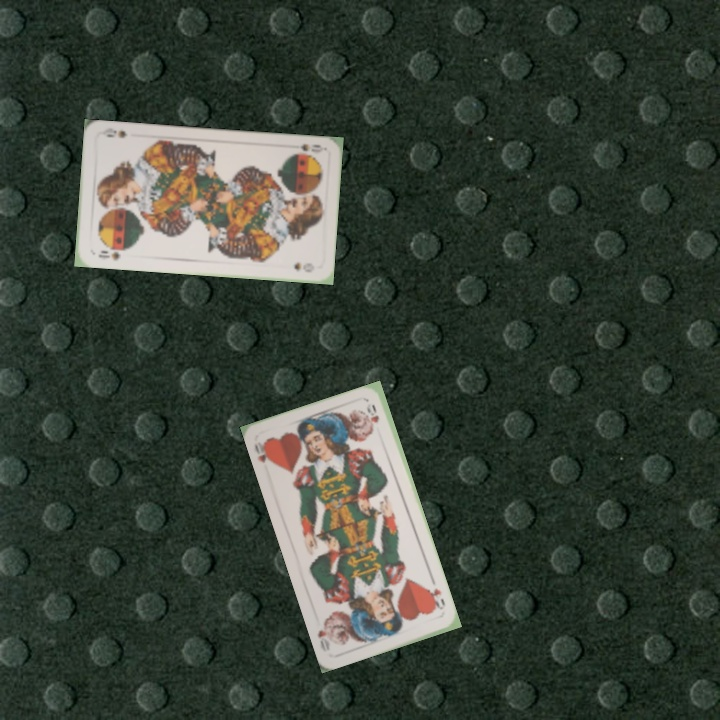HO: (250, 437, 276, 468), (424, 584, 448, 612)
SO: (94, 245, 129, 263), (296, 140, 327, 155)
